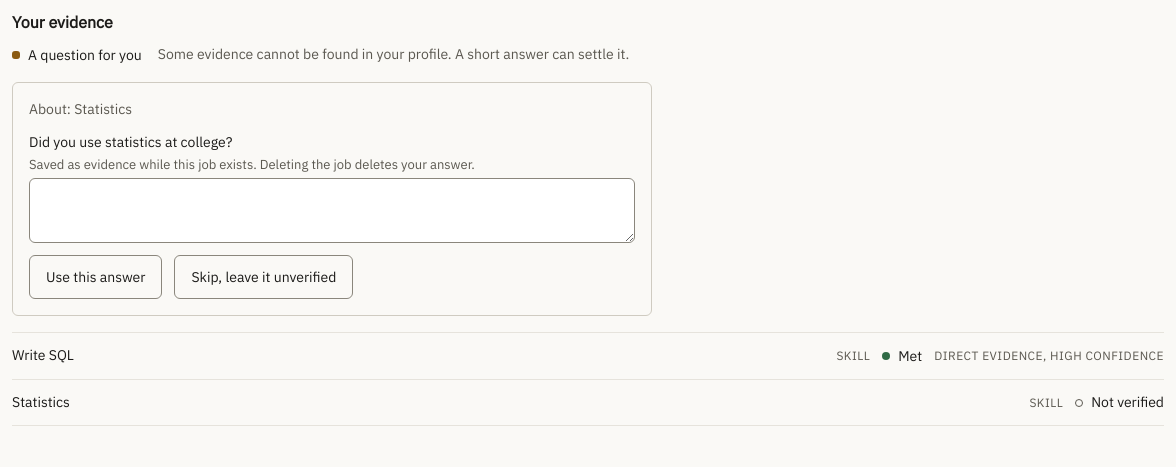
Test: the agent's question › asks it with a label, and refuses an empty answer next to the field
Expected: the text box labelled "Did you use statistics at college?" is shown, [29,178,635,243]
Click the button "Use this answer": click(96, 277) [29,255,162,299]
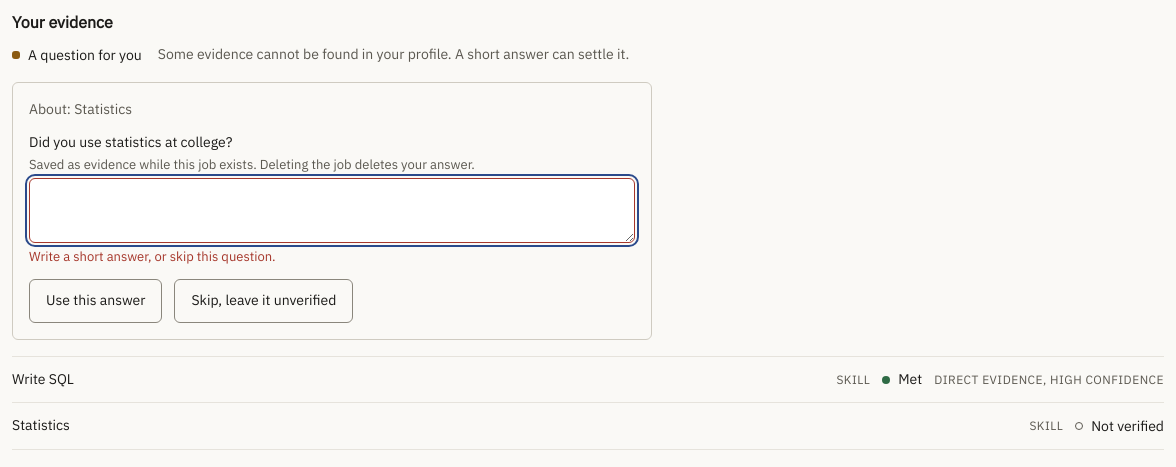
Expected: the text "Write a short answer, or skip this question." is shown, [29,248,276,265]
